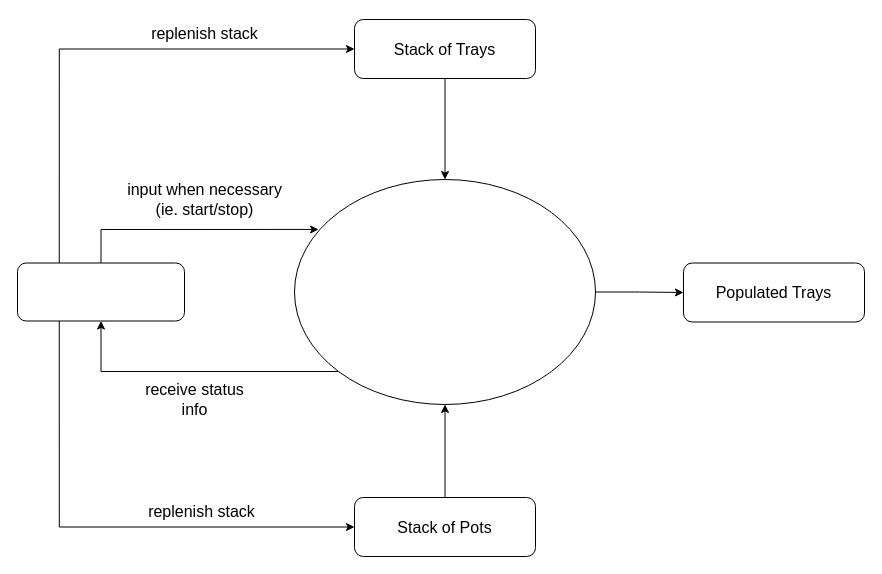
Image size: 882x574. Some labels were removed from this diagram. Each missing label, with the centre of its shape:
"Pot-Pulator System" belongs at [445,291].
"User" belongs at [100,291].
